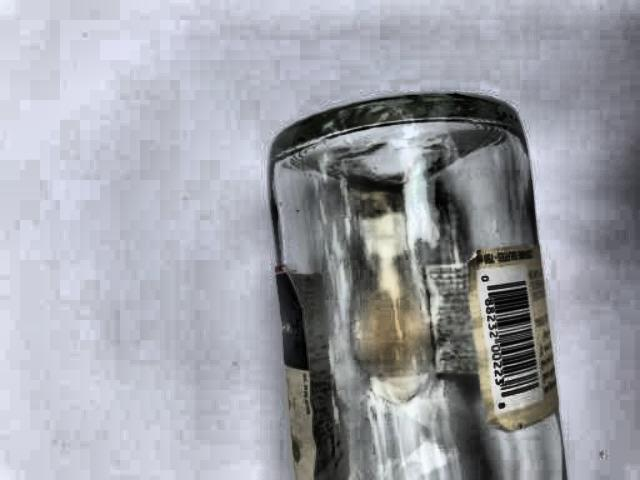Bottles: (252, 87, 578, 478)
